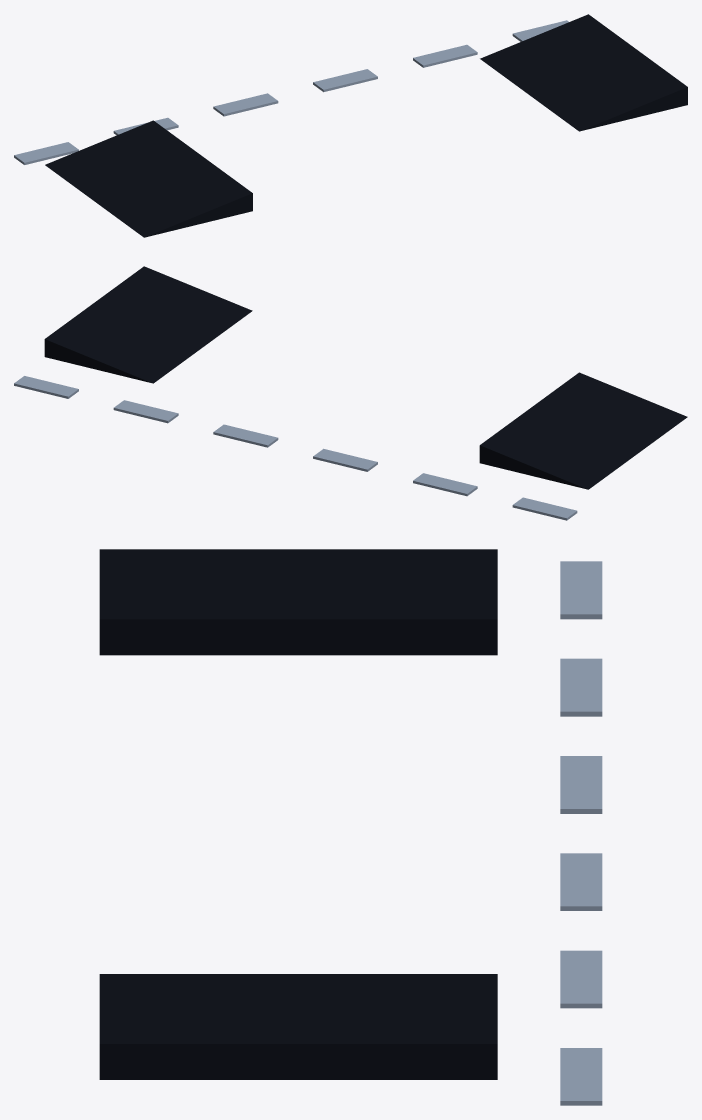
File: splitter_ramps_skids.glb
3 views of the same model, one above another, from view 1: azimuth 30°, elevation 25°; view 2: azimuth 150°, elevation 25°; view 3: azimuth 270°, elevation 25° (orthographic). The views are drawn at different scales.
Visible parts, largest first — view 1: Splitter_Ramps_Skids_Assembly; view 2: Splitter_Ramps_Skids_Assembly; view 3: Splitter_Ramps_Skids_Assembly.
Boxes of the visible parts, bbox=[...] form: Splitter_Ramps_Skids_Assembly: bbox=[14, 14, 687, 237]; Splitter_Ramps_Skids_Assembly: bbox=[14, 266, 687, 520]; Splitter_Ramps_Skids_Assembly: bbox=[99, 549, 602, 1105].
Bounding box in the file's own units: 1.22 × 0.064 × 0.48.
